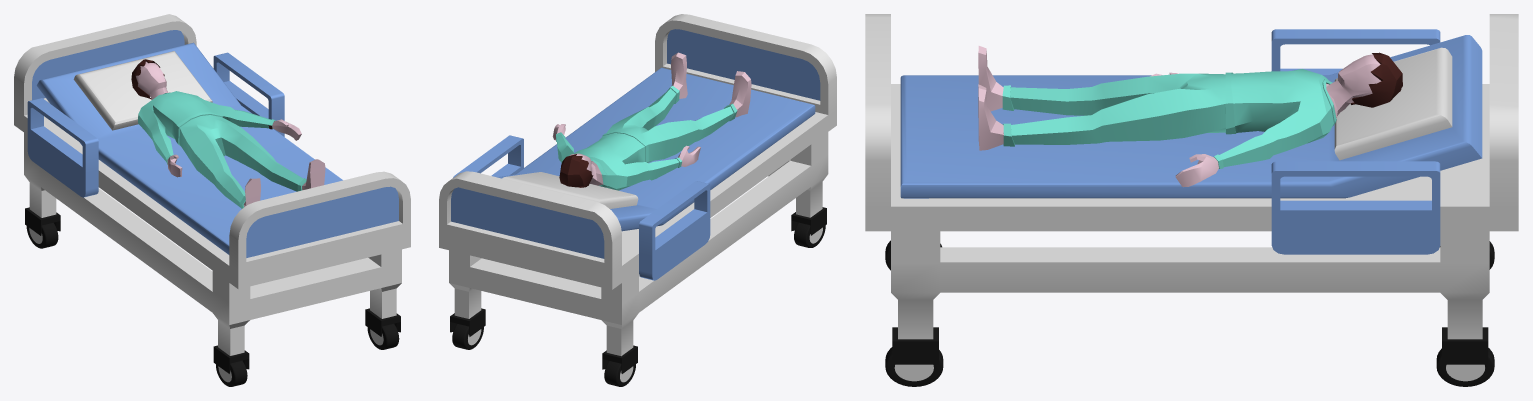
File: patient_plus_bed_02.fbx
The picture shows the model from 3 angles, left to right: view 1: azimuth 30°, elevation 25°; view 2: azimuth 150°, elevation 25°; view 3: azimuth 270°, elevation 25°; orthographic projection. The views are drawn at different scales.
Visible parts, largest first — view 1: bed, Patient; view 2: bed, Patient; view 3: bed, Patient.
Part boxes in pixels (x1,y1,x2,y2): bed: (14,14,410,386); Patient: (131,59,325,208); bed: (439,14,836,386); Patient: (552,52,751,190); bed: (865,14,1518,386); Patient: (978,46,1402,186).
Bounding box in the file's own units: 136 × 123 × 266.
